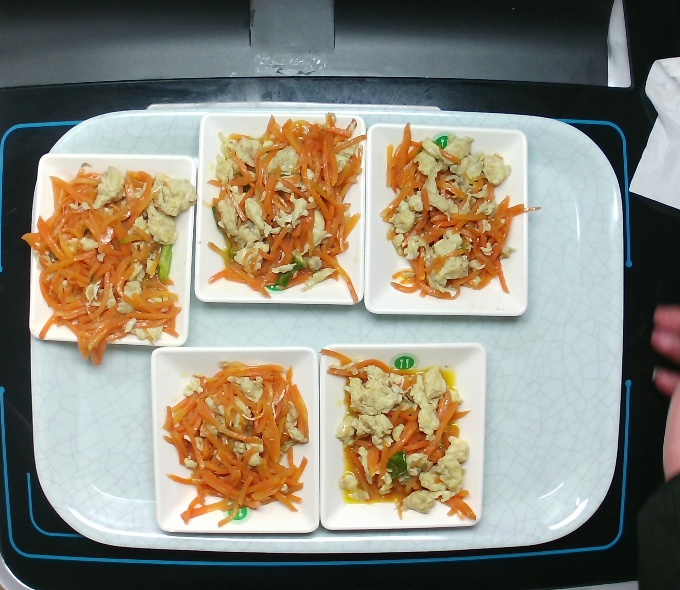wcq-HuLuoBoChaoDan: (18, 159, 199, 366), (202, 109, 370, 308), (379, 119, 542, 301), (318, 344, 479, 523), (160, 358, 313, 531)
